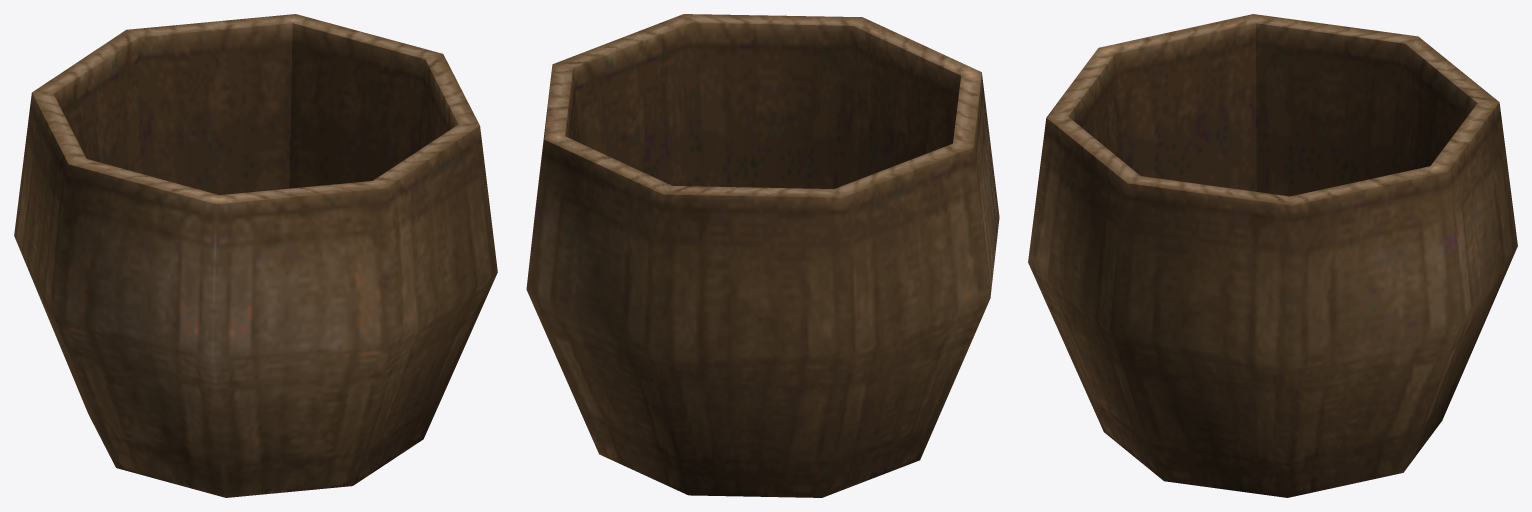
The model's file is 1004_Item_guanzi_2.FBX.
3 renders of one model, left to right at view 1: azimuth 30°, elevation 25°; view 2: azimuth 150°, elevation 25°; view 3: azimuth 270°, elevation 25°, orthographic. The views are drawn at different scales.
Visible parts, largest first — view 1: 1004_Item_guanzi_2; view 2: 1004_Item_guanzi_2; view 3: 1004_Item_guanzi_2.
Boxes of the visible parts, x1=… form: 1004_Item_guanzi_2: x1=14, y1=14, x2=497, y2=497; 1004_Item_guanzi_2: x1=526, y1=14, x2=999, y2=497; 1004_Item_guanzi_2: x1=1028, y1=14, x2=1517, y2=497.
Bounding box in the file's own units: 99.96 × 71.24 × 99.91.
